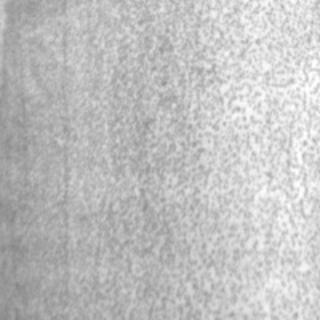pitted_surface: (4, 1, 318, 316)
